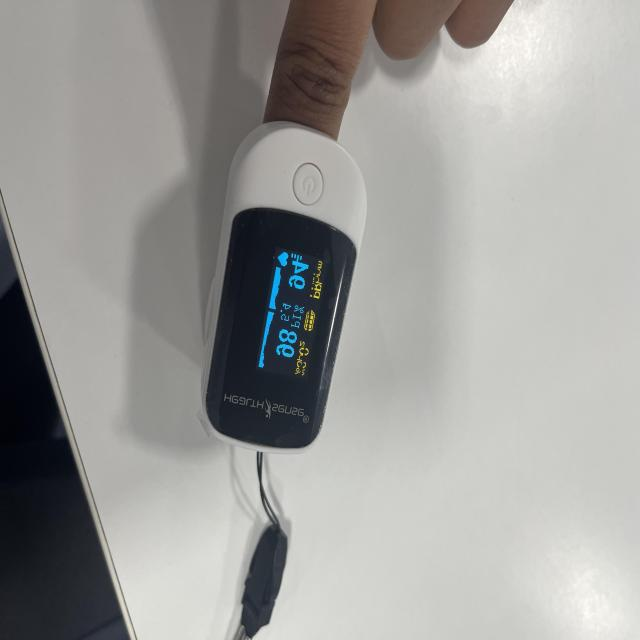spo2: (202, 121, 367, 454)
